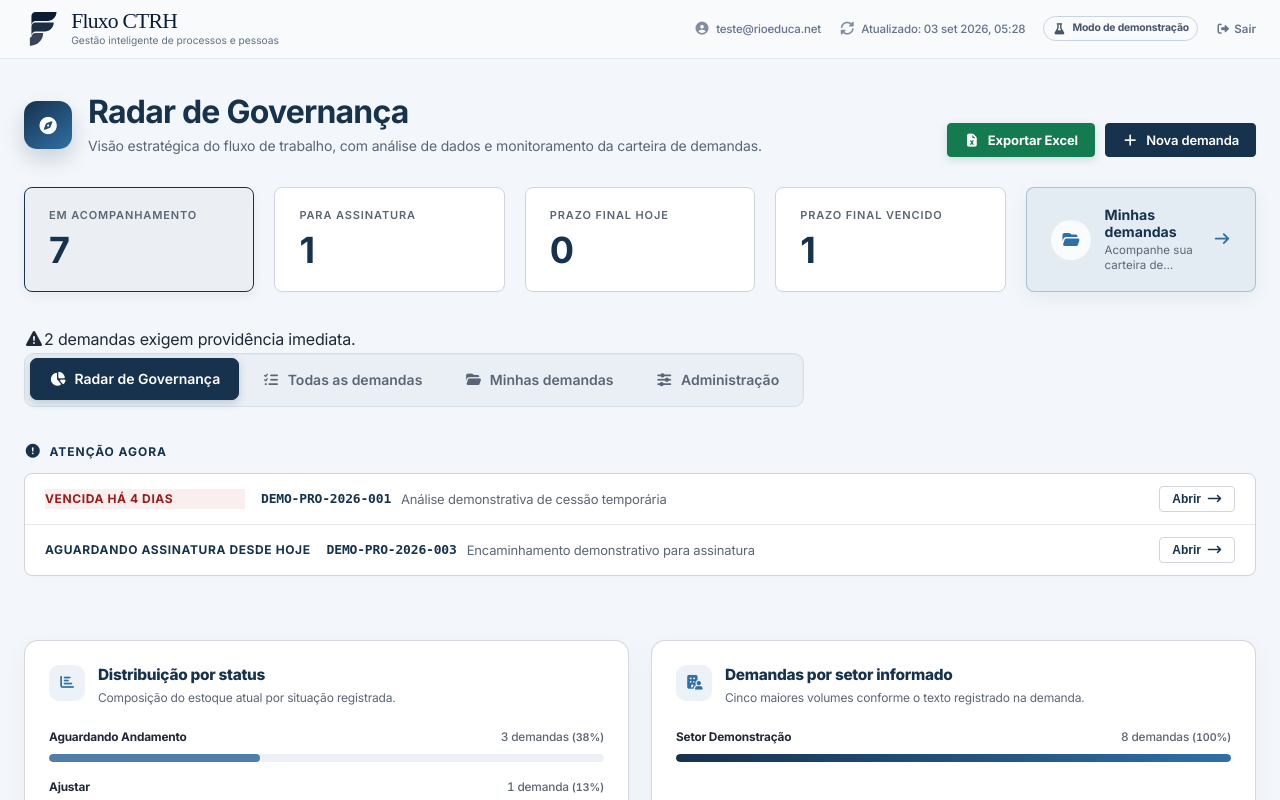
Test: segurança e acessibilidade do login › torna o drawer inerte enquanto um modal está aberto sobre ele
Click the button "Todas as demandas" at [342, 380], box x1=243 y1=359 x2=441 y2=401
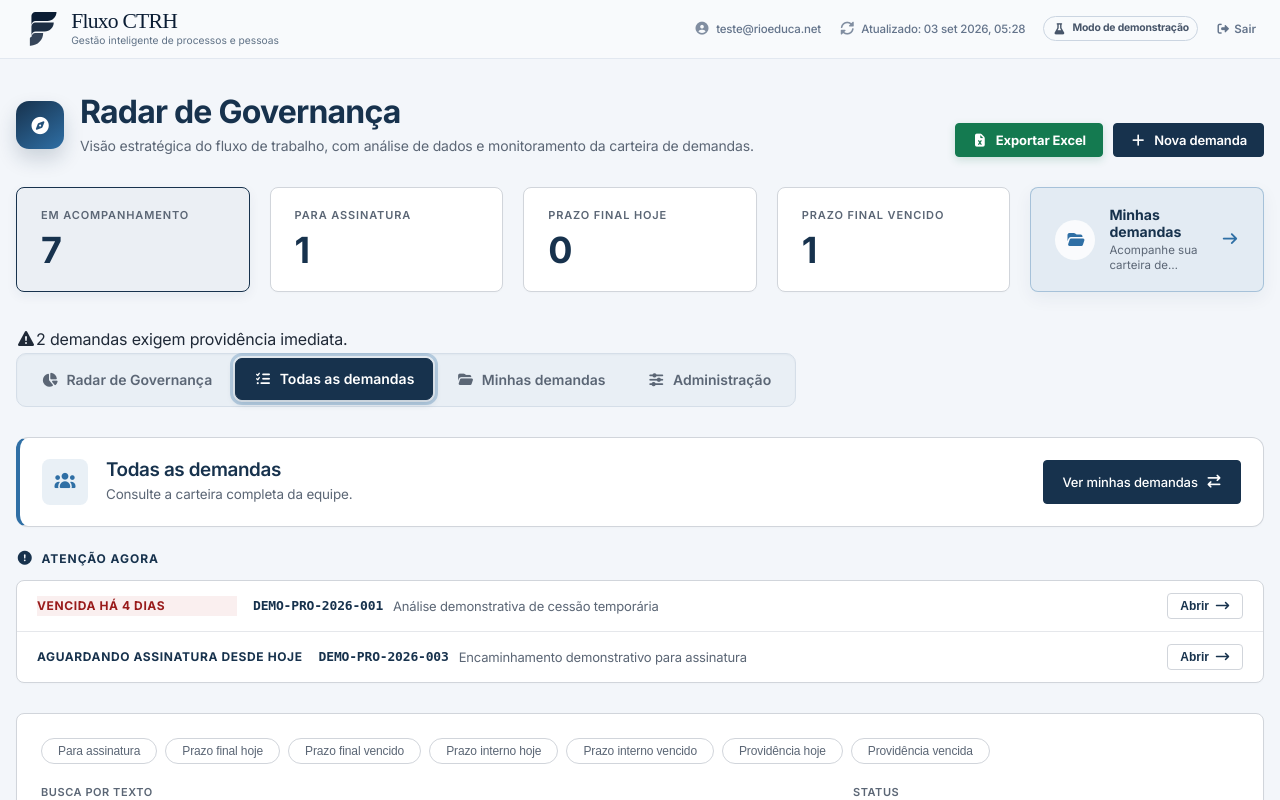
Click the 1st button "Abrir" at [1205, 606], box x1=1167 y1=593 x2=1243 y2=619
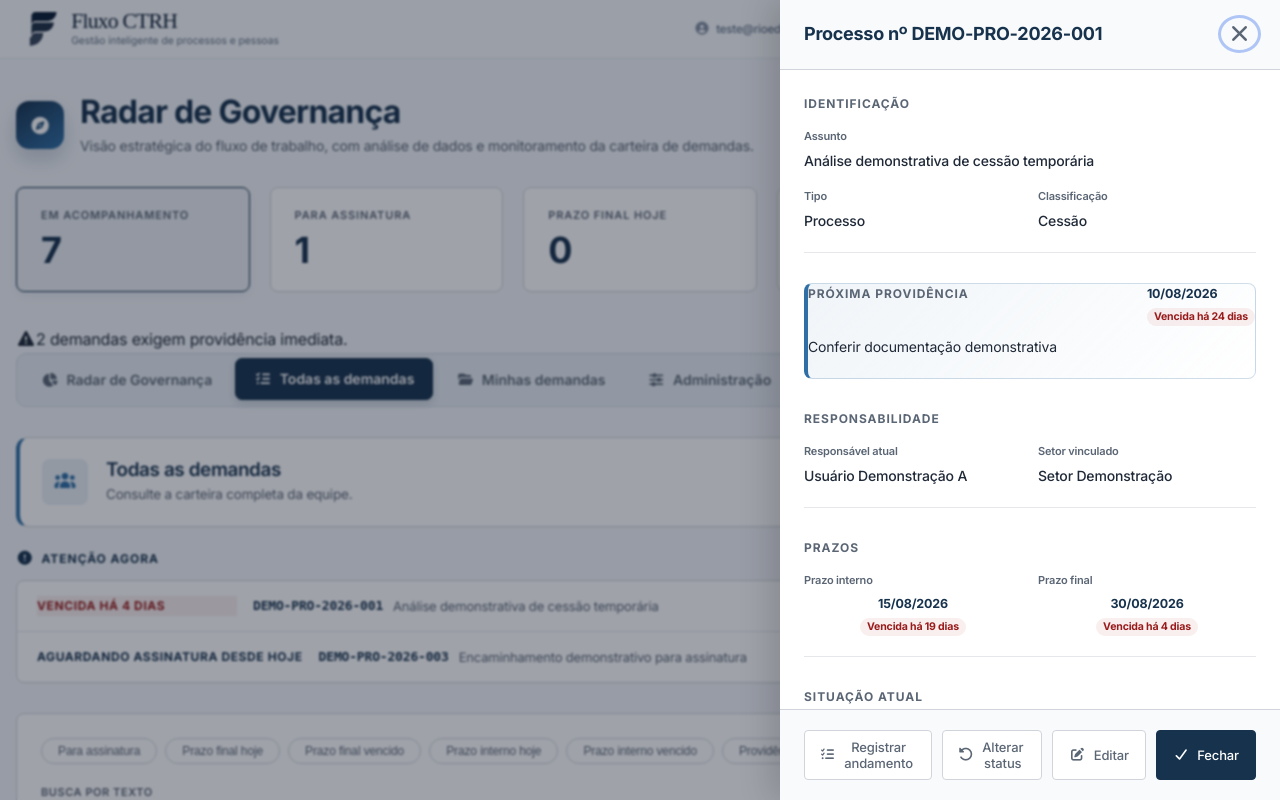
Click the button "Editar" at [1099, 755], box x1=1052 y1=730 x2=1146 y2=780
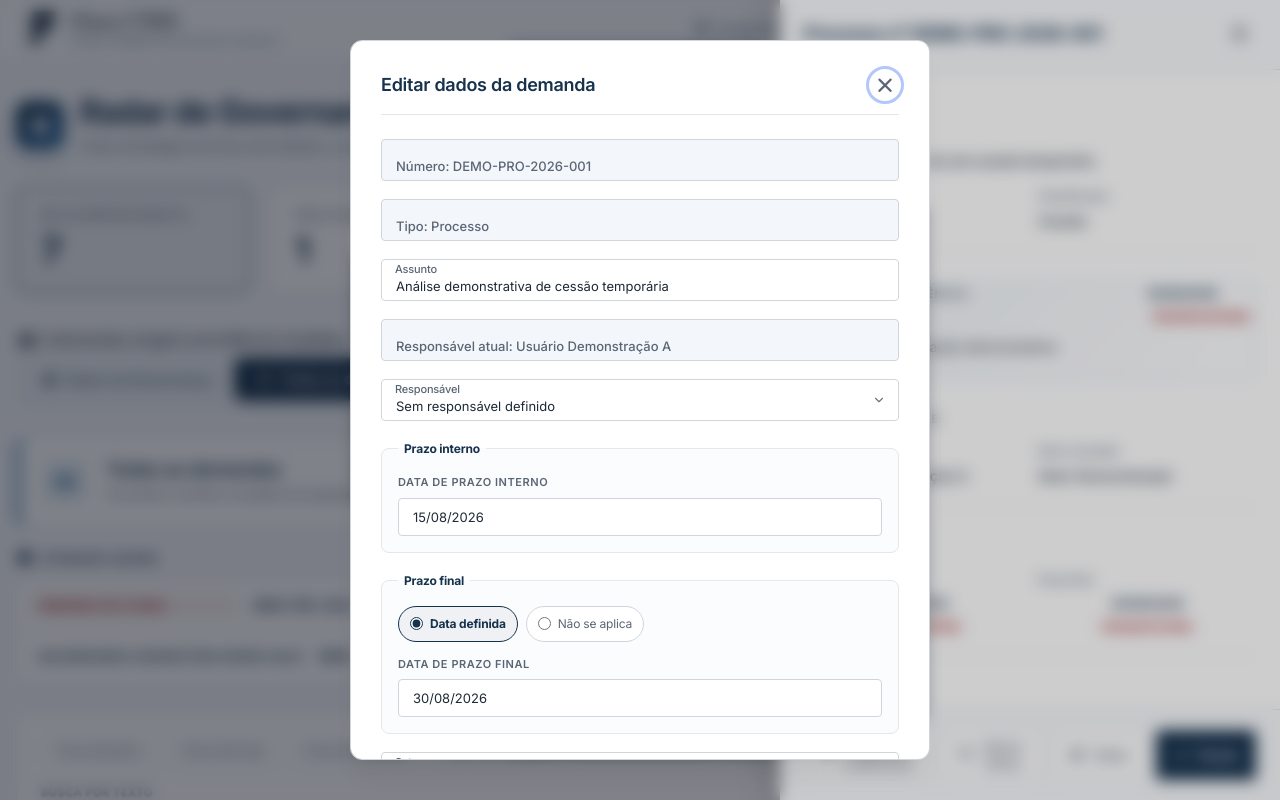
Expected: the heading "Editar dados da demanda" is shown, x1=381 y1=71 x2=595 y2=100
